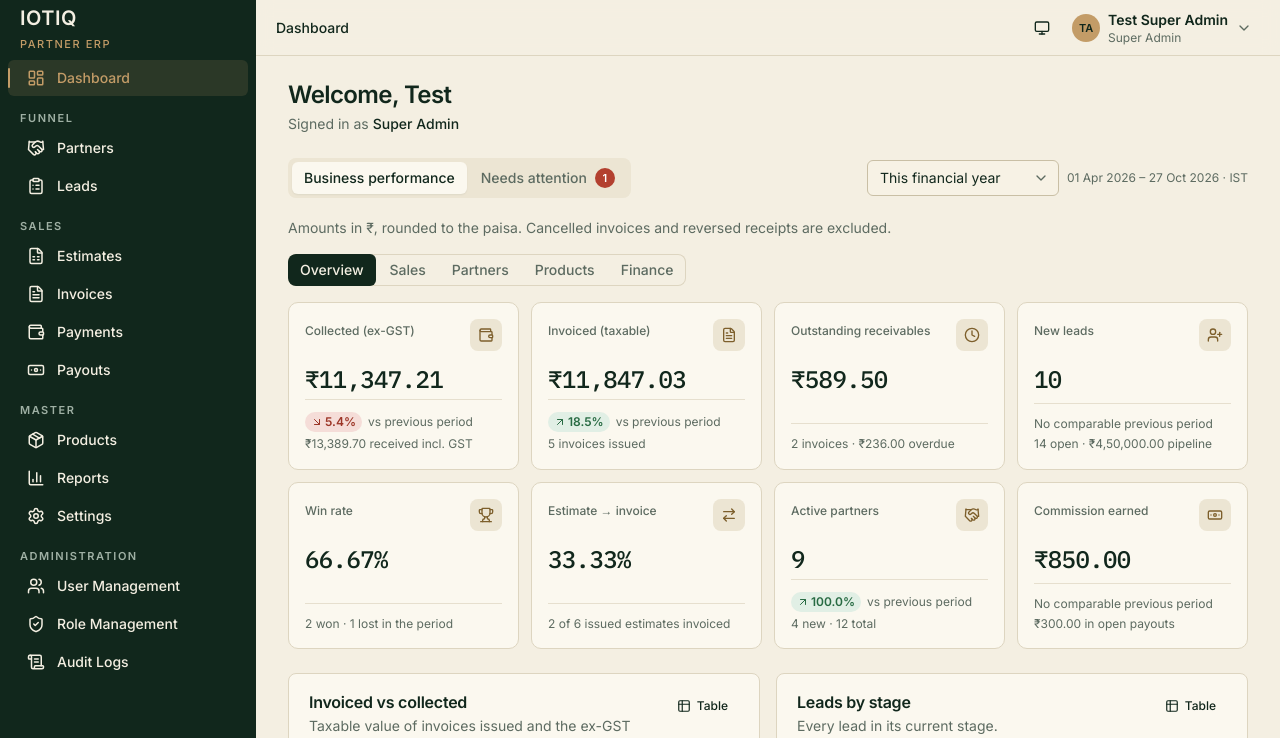
Test: executive dashboard › opens the sales tab with conversion and follow-ups
Click the tab "Sales": {"x": 408, "y": 270} [378, 254, 438, 286]
(page scrolled)
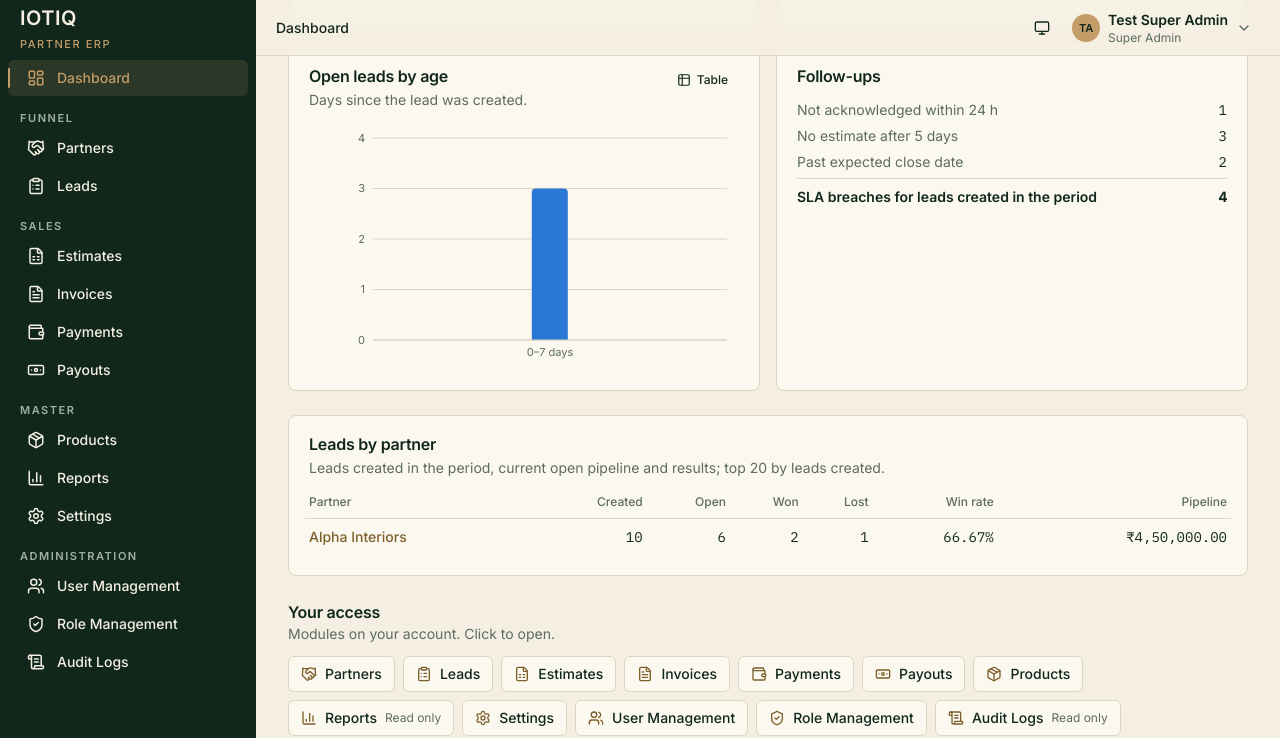
expect the table named "Leads by partner" is shown: met, box [305, 486, 1231, 554]
expect the text "Not acknowledged within 24 h" is shown: met, box [797, 100, 998, 120]
